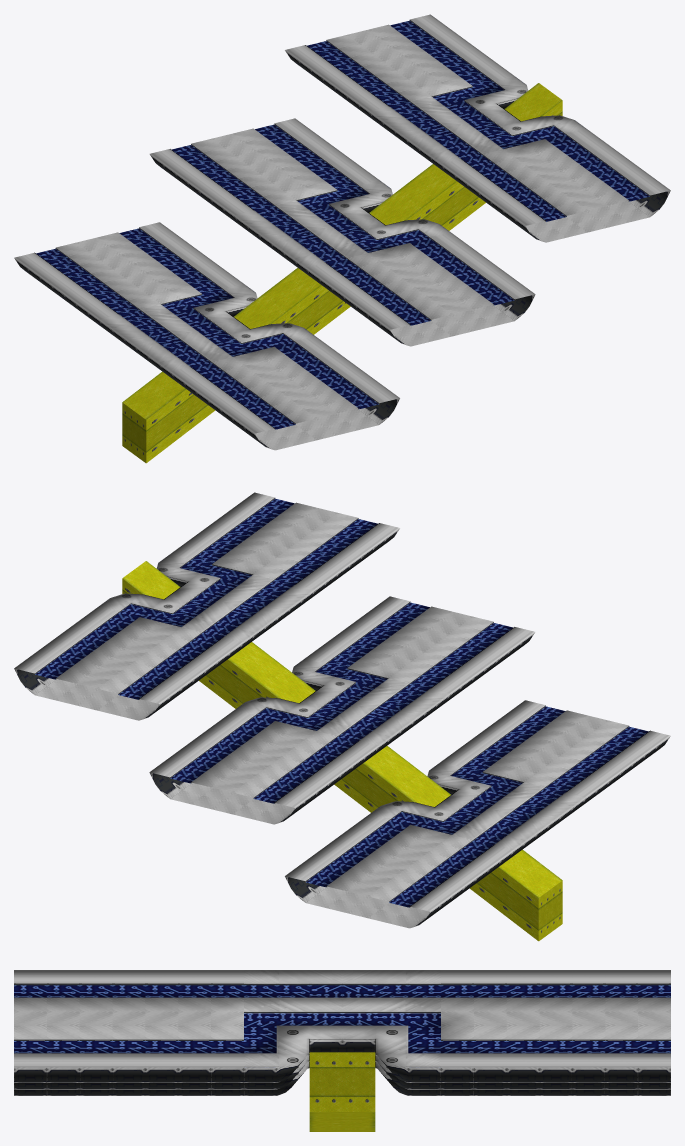
File: improved_stair_4.glb
The picture shows the model from 3 angles, top to bottom: view 1: azimuth 30°, elevation 25°; view 2: azimuth 150°, elevation 25°; view 3: azimuth 270°, elevation 25°; orthographic projection. The views are drawn at different scales.
Visible parts, largest first — view 1: Cube.011; view 2: Cube.011; view 3: Cube.011.
Part boxes in pixels (x1,y1,x2,y2): Cube.011: (14, 14, 670, 463); Cube.011: (14, 492, 670, 941); Cube.011: (14, 970, 670, 1131).
Bounding box in the file's own units: 2 × 1.2 × 2.
1 material, 1 textured.
